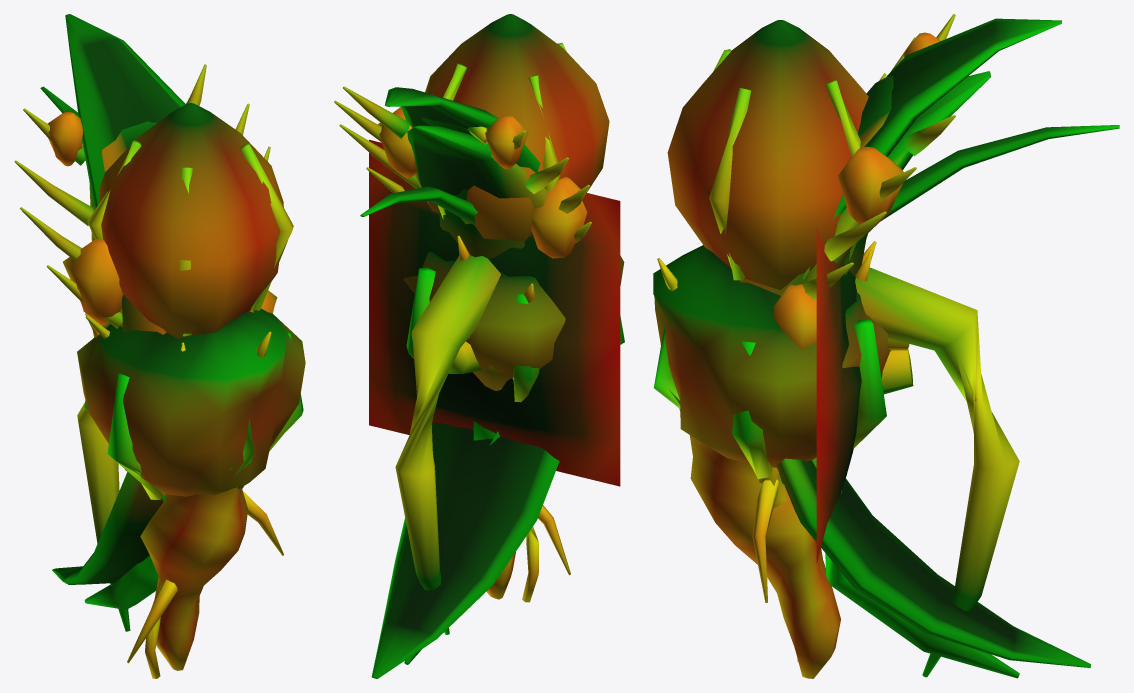
File: vizinho.glb
3 renders of one model, left to right at view 1: azimuth 30°, elevation 25°; view 2: azimuth 150°, elevation 25°; view 3: azimuth 270°, elevation 25°, orthographic. The views are drawn at different scales.
Visible parts, largest first — view 1: broto, nucleo, haste, petala_lisa, petala_bulbo, foice, petala_espinho, perna_extra, raiz, garra, petala_chifre; view 2: placa_casca, foice, broto, perna_extra, nucleo, petala_espinho, petala_bulbo, petala_lisa, petala_chifre, costela_aberta, raiz, coto (+1 smaller); view 3: broto, nucleo, foice, perna_extra, haste, placa_casca, petala_lisa, petala_bulbo, petala_espinho, costela_aberta, garra, raiz (+2 smaller).
Part boxes in pixels (box(x1,y1,x2,y2)): broto: box(87, 103, 293, 338); nucleo: box(77, 308, 305, 499); haste: box(140, 487, 248, 670); petala_lisa: box(65, 14, 185, 209); petala_bulbo: box(47, 112, 277, 325); foice: box(52, 472, 243, 584); petala_espinho: box(14, 64, 270, 338); perna_extra: box(77, 323, 130, 631); raiz: box(127, 491, 283, 678); garra: box(84, 495, 165, 609); petala_chifre: box(122, 295, 253, 334); placa_casca: box(369, 139, 620, 486); foice: box(371, 422, 559, 678); broto: box(425, 14, 609, 241); perna_extra: box(395, 255, 500, 634); nucleo: box(403, 252, 624, 402); petala_espinho: box(334, 86, 591, 242); petala_bulbo: box(378, 107, 587, 258); petala_lisa: box(385, 87, 540, 172); petala_chifre: box(439, 189, 524, 258); costela_aberta: box(360, 186, 477, 224); raiz: box(522, 505, 570, 602); coto: box(457, 235, 534, 390); broto: box(667, 20, 868, 290); nucleo: box(653, 245, 913, 479); foice: box(777, 458, 1090, 667); perna_extra: box(855, 267, 1019, 677); haste: box(689, 435, 840, 678); placa_casca: box(816, 228, 861, 563); petala_lisa: box(802, 18, 1061, 280); petala_bulbo: box(773, 32, 940, 349); petala_espinho: box(802, 14, 990, 299); costela_aberta: box(865, 125, 1119, 235); garra: box(779, 457, 1019, 678); raiz: box(752, 467, 798, 661).
Size of the model in its own units: 0.92 by 2.01 by 1.29.
